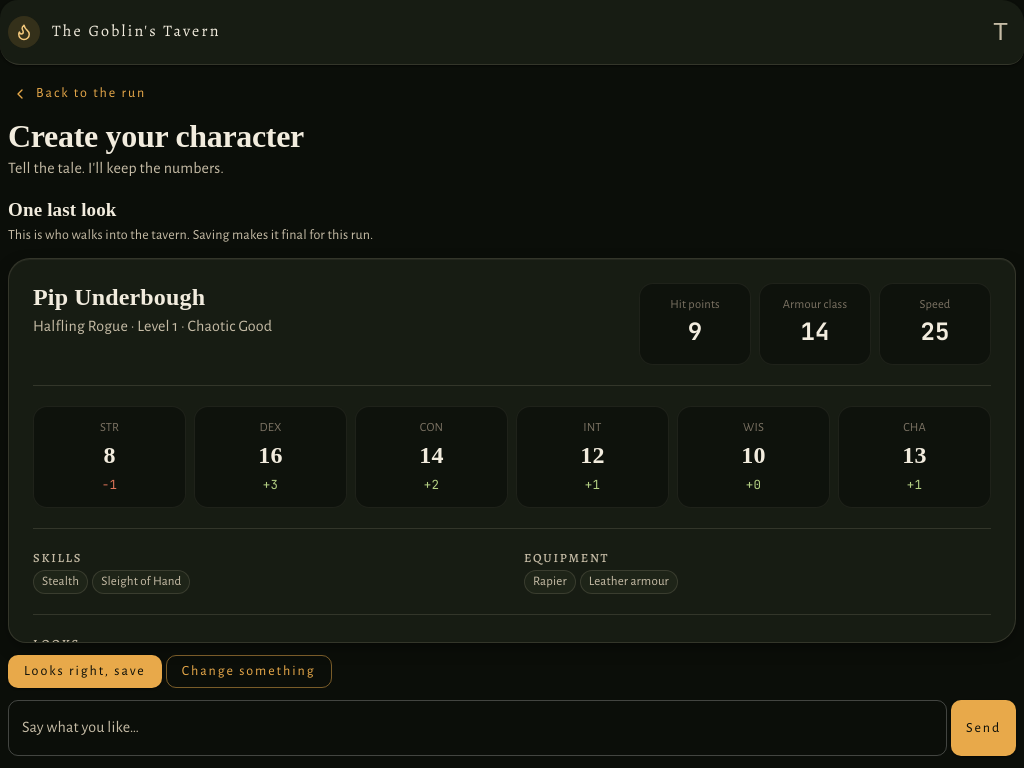
Scenario: CreationChatRoute's review and save (sprint 009-07, WI1, AC1-AC3, AC5-AC6) › after 'Change something', a change that leaves the review step re-opens the review on its own once it is reached again
The width and height of the screenshot is (1024, 768).
Click the button "Change something" at (249, 672), box [166,655,332,688]
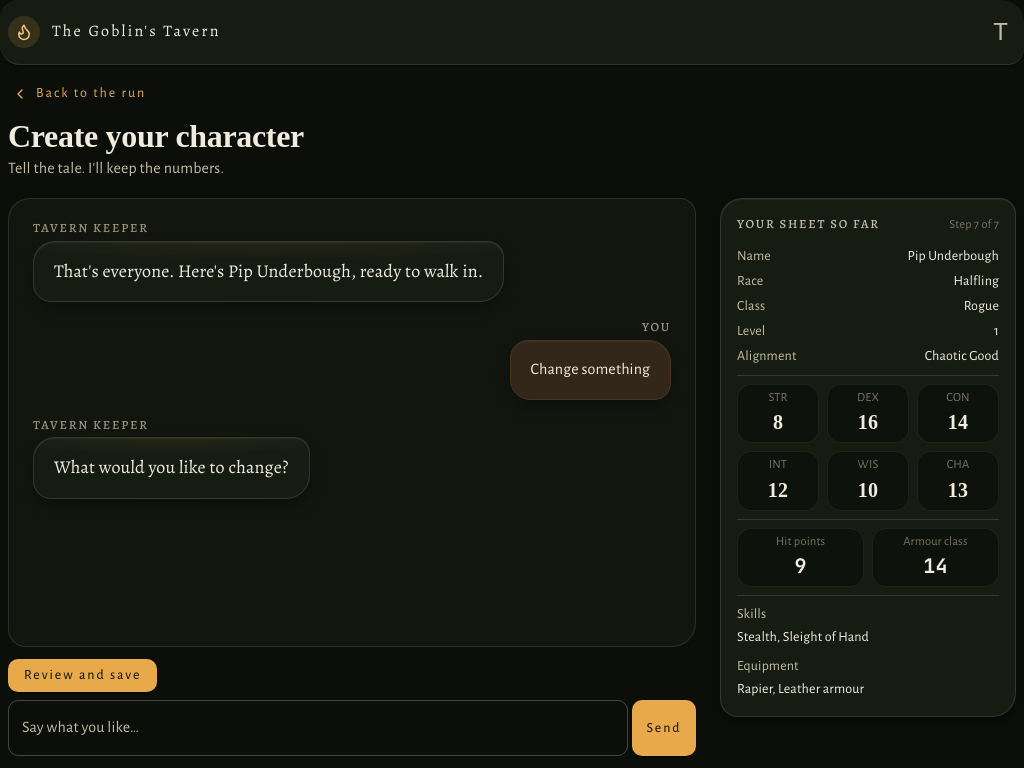
Result: the text "What would you like to change?" is shown at [54,454,288,482]
Type "Make him a bard" into the field labelled "Say what you like…" at (318, 728), box [8,700,628,756]
Then press Enter
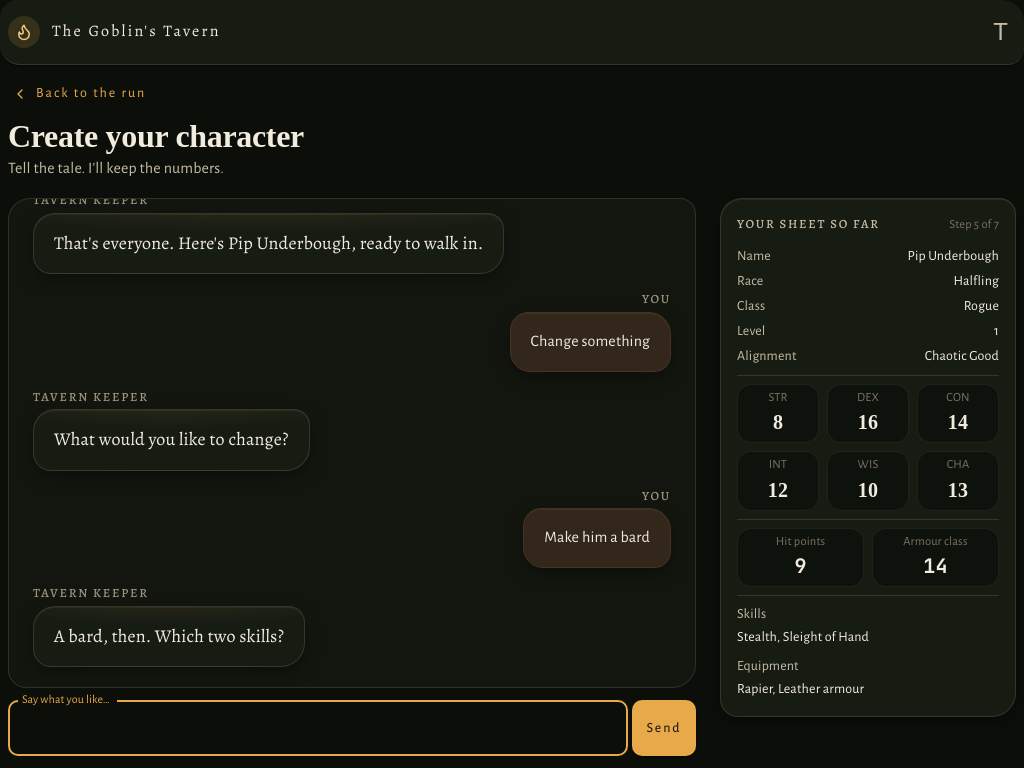
Result: the text "A bard, then. Which two skills?" is shown at [54,622,284,650]
Result: the button "Review and save" is gone
Type "Performance and Persuasion" into the field labelled "Say what you like…" at (318, 728), box [8,700,628,756]
Then press Enter
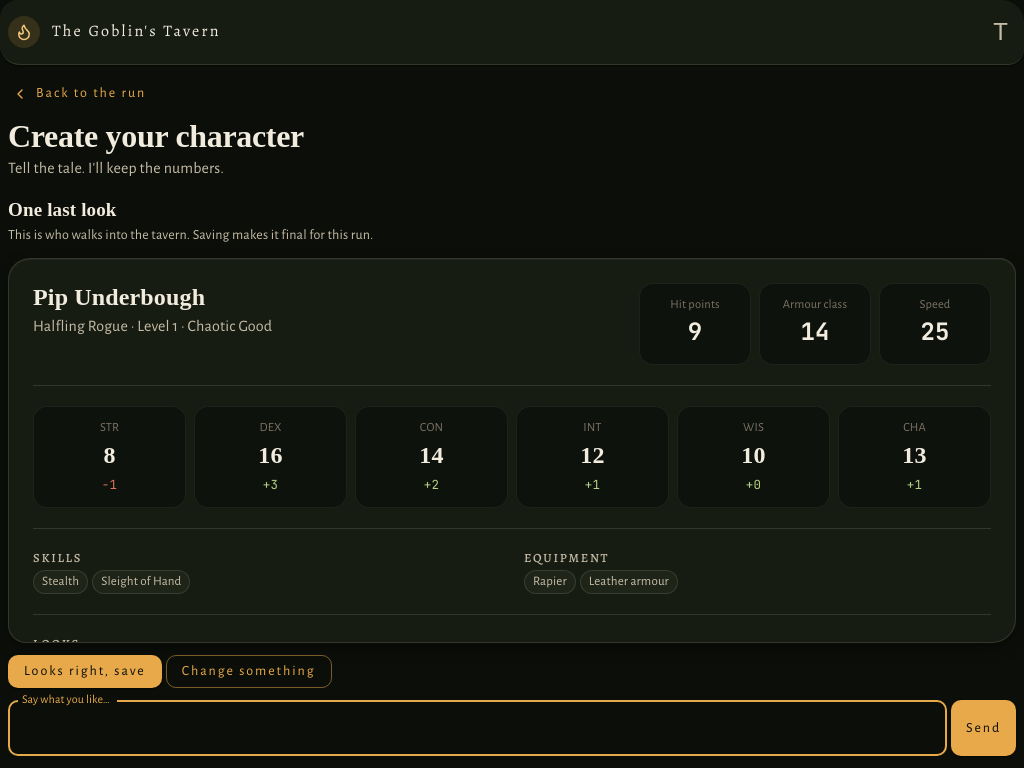
Result: the element "One last look" is shown
